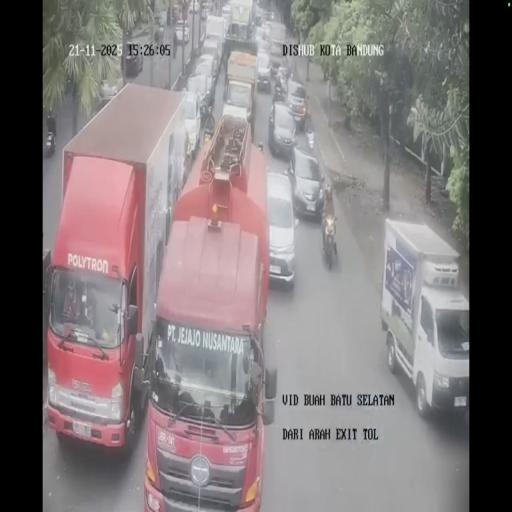car: (267, 171, 296, 288), (288, 146, 325, 220), (267, 102, 296, 157), (186, 72, 212, 128), (223, 82, 253, 129), (200, 37, 220, 75), (286, 79, 306, 112), (256, 50, 271, 90), (268, 38, 284, 70), (174, 21, 190, 44), (254, 3, 272, 23), (220, 4, 232, 28), (254, 25, 267, 47), (200, 0, 214, 16), (189, 0, 199, 14), (172, 4, 180, 19)
motorcycle: (273, 78, 287, 102)
truck: (46, 84, 192, 454), (380, 222, 467, 421), (98, 75, 121, 108)
